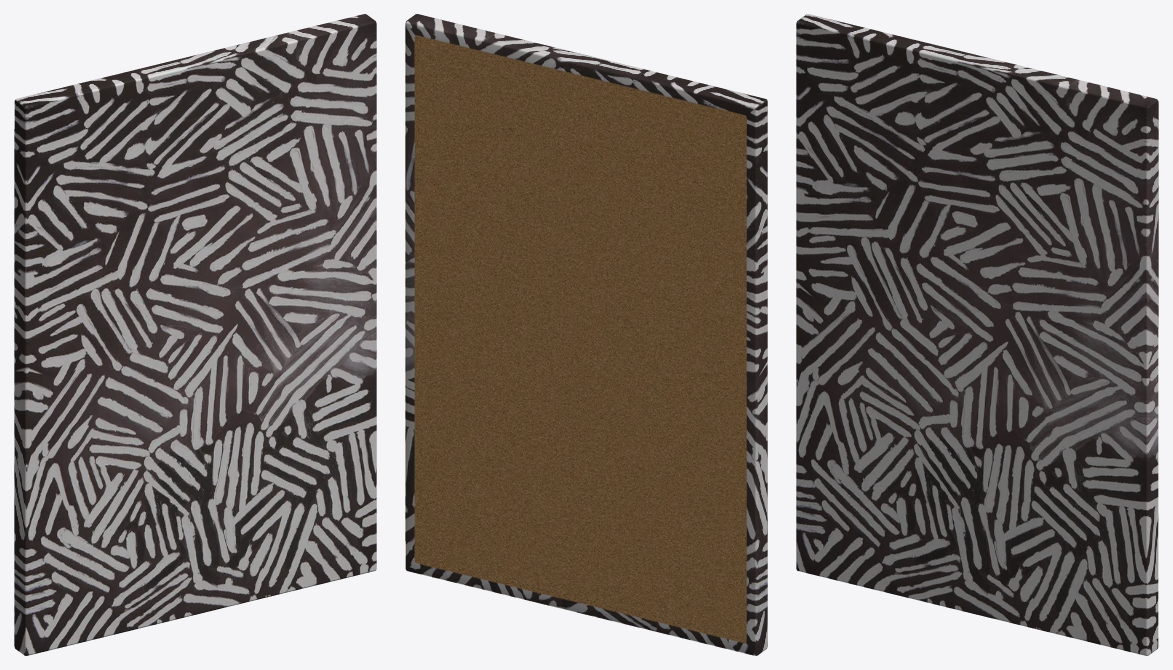
Rendered from B07HSJZZNY.glb.
3 renders of one model, left to right at view 1: azimuth 30°, elevation 25°; view 2: azimuth 150°, elevation 25°; view 3: azimuth 330°, elevation 25°, orthographic.
Visible parts, largest first — view 1: RootNode; view 2: RootNode; view 3: RootNode.
Boxes of the visible parts, left/top/right/bottom form: RootNode: left=14, top=14, right=376, bottom=655; RootNode: left=405, top=14, right=767, bottom=655; RootNode: left=796, top=14, right=1158, bottom=655.
Size of the model in its own units: 0.6148 by 0.9178 by 0.0354.
1 material, 1 textured.
